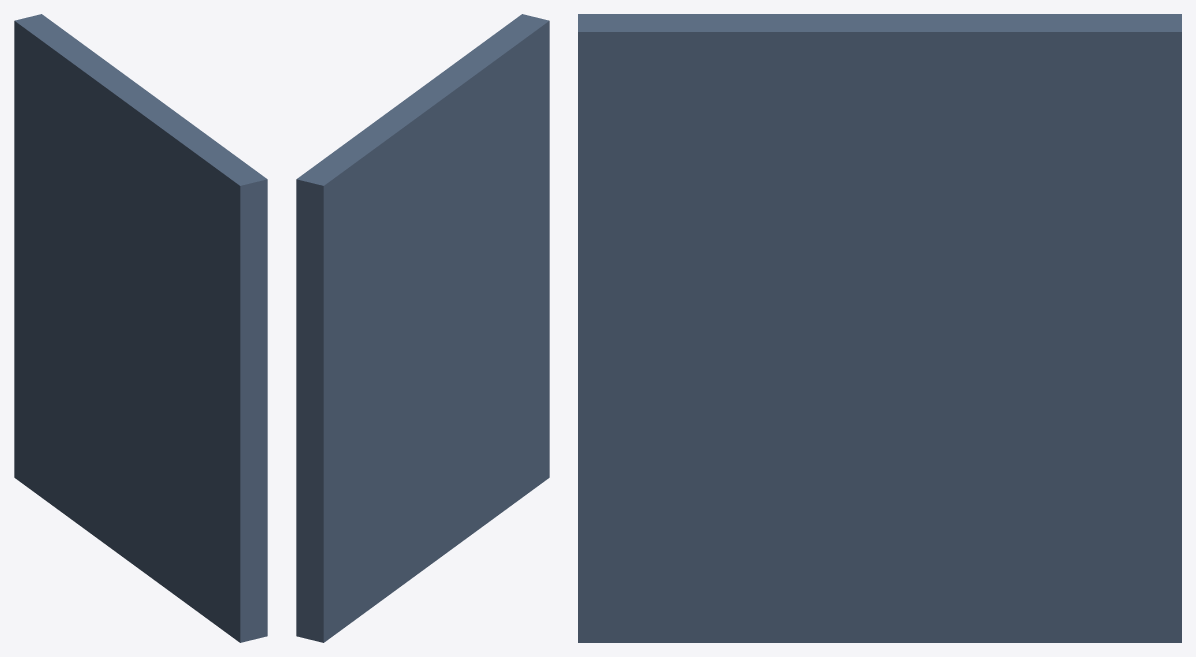
The model's file is wall.fbx.
The picture shows the model from 3 angles, left to right: view 1: azimuth 30°, elevation 25°; view 2: azimuth 150°, elevation 25°; view 3: azimuth 270°, elevation 25°; orthographic projection. The views are drawn at different scales.
Parts seen in each view (by area): view 1: wall; view 2: wall; view 3: wall.
Boxes of the visible parts, x1,y1,x2,y2 form: wall: (14, 14, 267, 642); wall: (296, 14, 549, 642); wall: (578, 14, 1181, 642).
Size of the model in its own units: 28.61 by 456 by 409.
